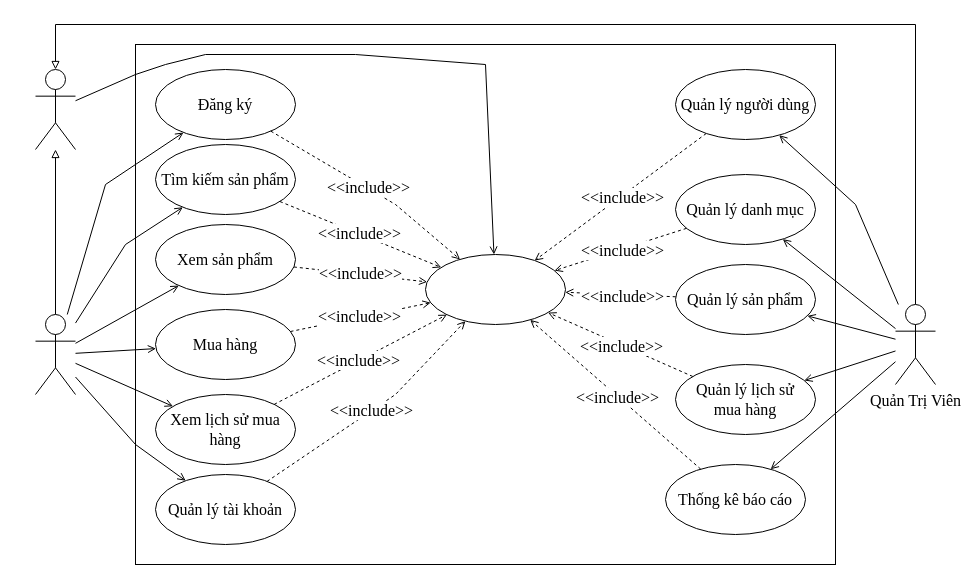
Some shapes in this 978 by 582 pixel diagram are drawn without their labels. Each missing label, with the box of its shape:
Khách hàng: (34, 314, 76, 394)
Người dùng: (34, 68, 76, 150)
Đăng nhập: (424, 254, 566, 324)
